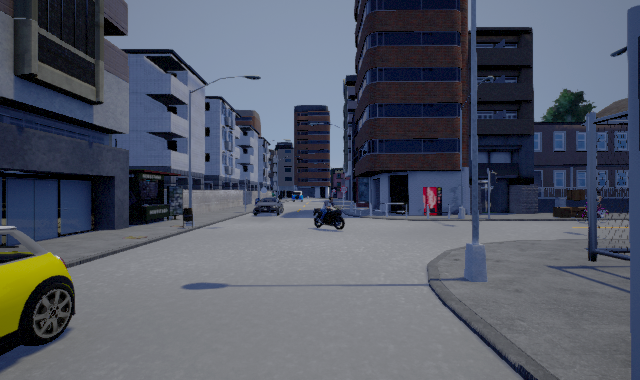motobike: (313, 197, 346, 230)
traffic_sign: (340, 186, 347, 193)
vehicle: (1, 226, 76, 356), (253, 197, 284, 216)
